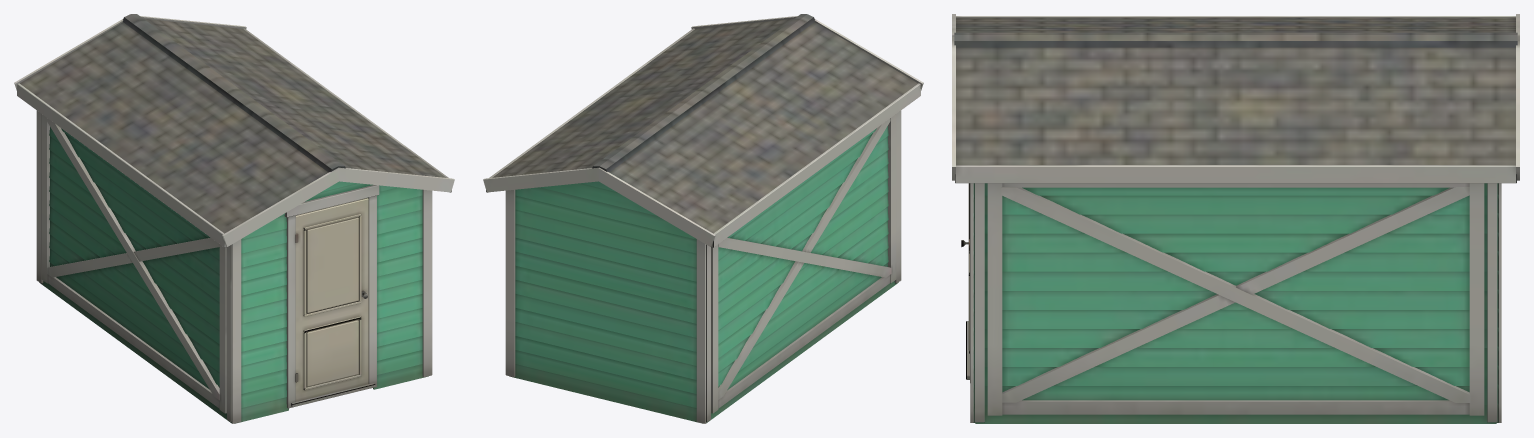
File: shed_green-low.glb
The picture shows the model from 3 angles, left to right: view 1: azimuth 30°, elevation 25°; view 2: azimuth 150°, elevation 25°; view 3: azimuth 270°, elevation 25°; orthographic projection. The views are drawn at different scales.
Parts seen in each view (by area): view 1: shed_green; view 2: shed_green; view 3: shed_green.
Part boxes in pixels (box(x1,y1,x2,y2)): shed_green: box(14, 14, 454, 423); shed_green: box(483, 14, 923, 423); shed_green: box(952, 14, 1519, 423).
Size of the model in its own units: 2.5 by 2.47 by 3.92.
Materials: 3 (3 with a texture image).
